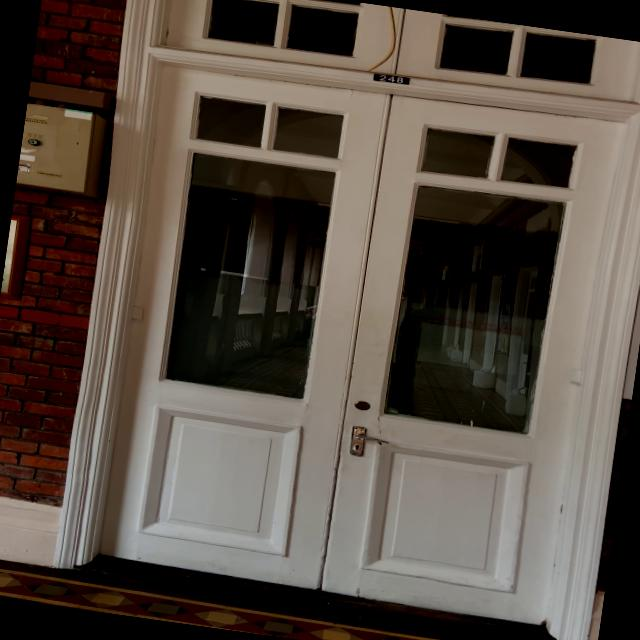room248: (366, 66, 422, 90)
